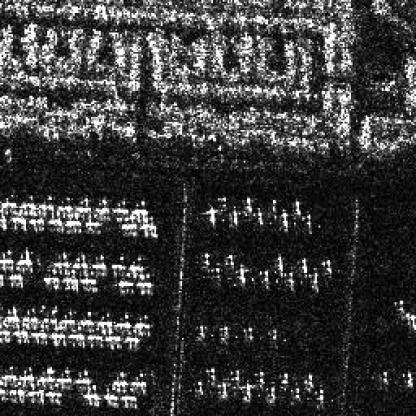airplane: (51, 252, 72, 276), (109, 255, 130, 278), (71, 252, 91, 276), (13, 247, 33, 270), (73, 369, 94, 390), (130, 200, 151, 221), (128, 258, 150, 278), (118, 219, 140, 239), (75, 310, 96, 330), (54, 198, 74, 218), (114, 312, 133, 333), (57, 310, 75, 332), (130, 374, 150, 393), (18, 198, 37, 218), (94, 197, 114, 216), (107, 372, 128, 390), (75, 197, 94, 216), (55, 367, 73, 387), (38, 366, 56, 386), (38, 312, 58, 330), (84, 216, 104, 234), (0, 195, 18, 215), (3, 304, 20, 325), (38, 195, 53, 218), (94, 314, 112, 333), (133, 314, 151, 333), (8, 214, 28, 231), (115, 280, 136, 296), (142, 221, 160, 239), (93, 254, 107, 276), (21, 309, 37, 328), (80, 278, 99, 294), (65, 214, 81, 233), (115, 198, 130, 218), (216, 195, 231, 215), (302, 372, 317, 392), (0, 367, 16, 385), (66, 333, 84, 349), (203, 206, 219, 224), (81, 392, 101, 406), (120, 393, 138, 408), (6, 273, 24, 288), (40, 276, 58, 291), (62, 276, 80, 291), (11, 330, 31, 343), (18, 369, 34, 385), (250, 210, 266, 226), (239, 325, 255, 341), (100, 392, 118, 406), (104, 335, 122, 349), (86, 334, 104, 348), (302, 211, 316, 229), (308, 268, 322, 286), (263, 327, 281, 341), (252, 369, 266, 387), (30, 216, 46, 231), (276, 213, 291, 229), (221, 252, 236, 268), (263, 387, 278, 403), (390, 299, 406, 314), (48, 333, 66, 346), (0, 254, 13, 272), (210, 263, 223, 281), (273, 255, 286, 273), (44, 388, 63, 400), (279, 369, 291, 388), (256, 268, 270, 284), (192, 380, 206, 396), (25, 390, 42, 403), (291, 198, 302, 218), (228, 208, 240, 226), (242, 195, 254, 213), (268, 198, 280, 216), (296, 256, 308, 274), (228, 367, 242, 382), (234, 262, 245, 281), (138, 281, 154, 294), (47, 216, 63, 229), (216, 382, 229, 398), (239, 384, 252, 400), (291, 384, 304, 400), (318, 258, 332, 272), (31, 332, 47, 344), (198, 252, 210, 268), (203, 368, 219, 380), (124, 335, 141, 346), (218, 324, 228, 342), (404, 314, 414, 332), (195, 322, 206, 338), (7, 388, 21, 400), (402, 371, 414, 385), (0, 329, 11, 344), (284, 270, 294, 286), (380, 367, 390, 382), (0, 213, 8, 231), (314, 388, 324, 402)
